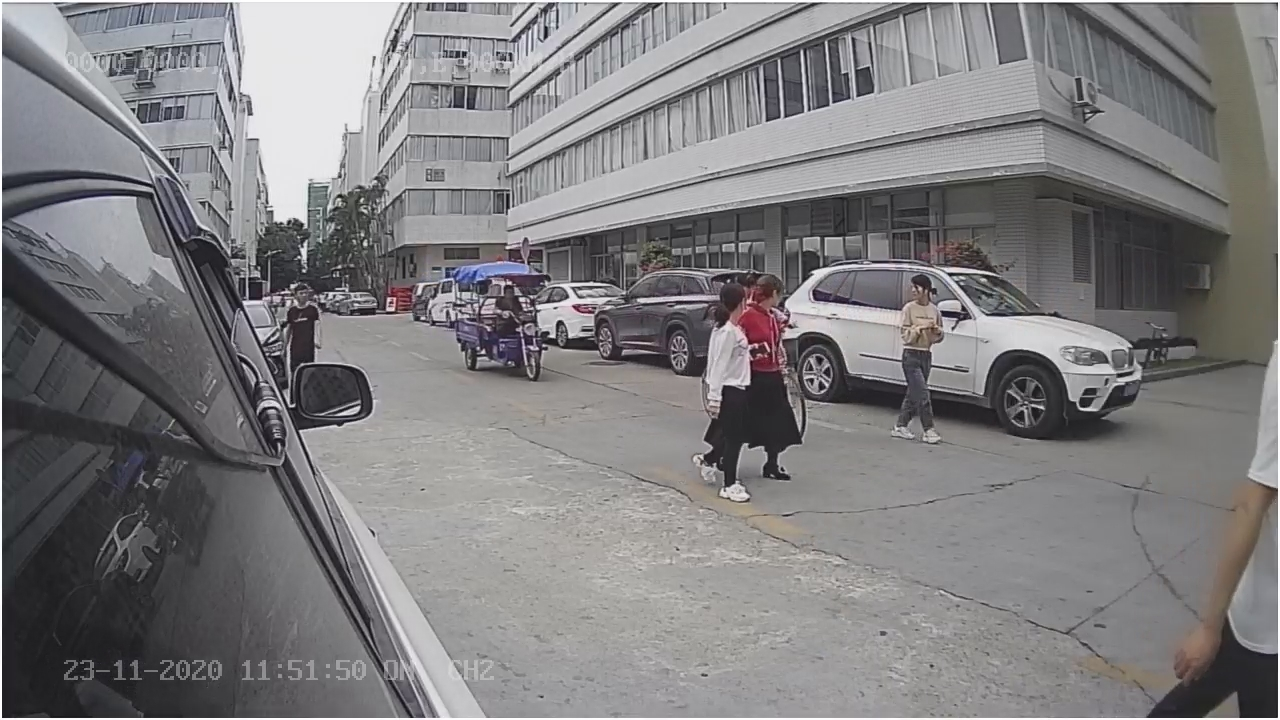person: (692, 282, 762, 504), (887, 266, 952, 449)
